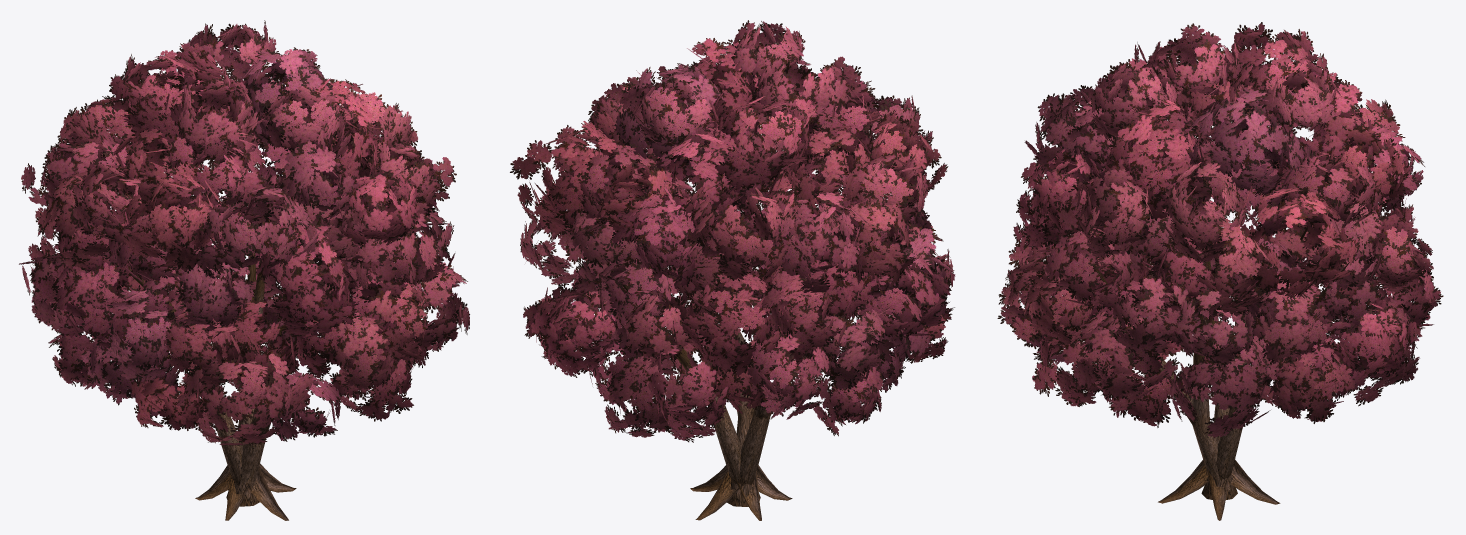
File: mm6_deco_tree04.glb
The picture shows the model from 3 angles, left to right: view 1: azimuth 30°, elevation 25°; view 2: azimuth 150°, elevation 25°; view 3: azimuth 270°, elevation 25°; orthographic projection.
Visible parts, largest first — view 1: Tree; view 2: Tree; view 3: Tree.
Part boxes in pixels (<box>): Tree: <box>19,20,469,520</box>; Tree: <box>510,20,955,520</box>; Tree: <box>997,22,1443,520</box>.
Bounding box in the file's own units: 5.68 × 6.18 × 5.75.
2 materials, 2 textured.
